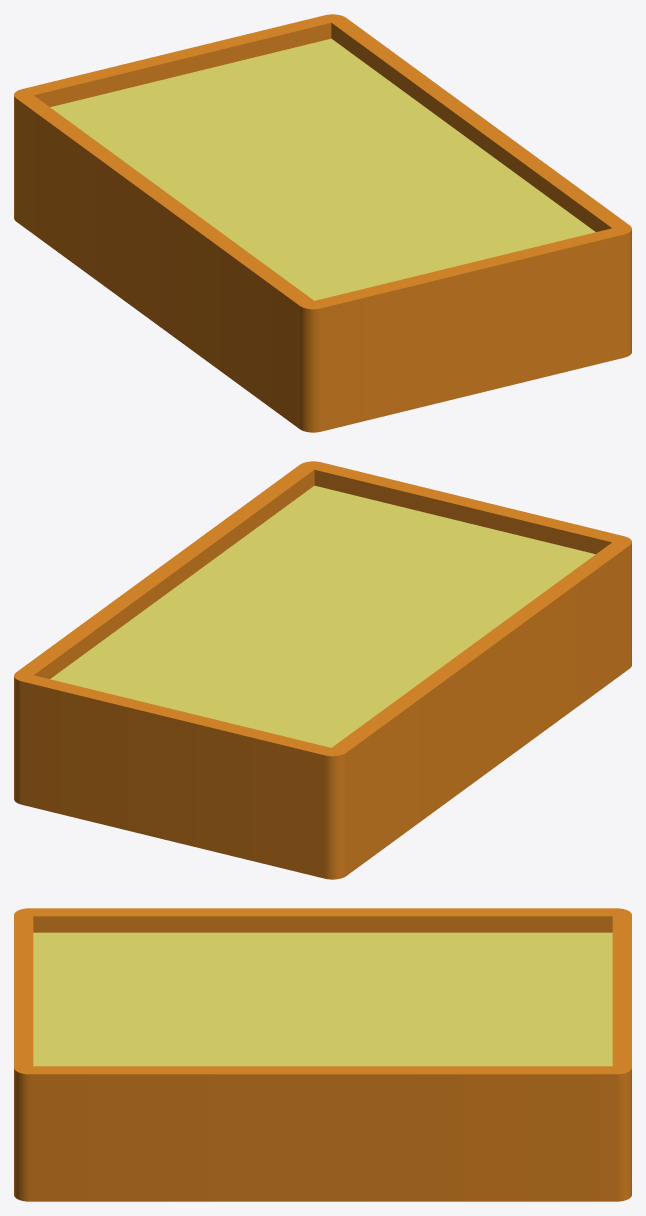
Rendered from huopinhe.glb.
3 views of the same model, one above another, from view 1: azimuth 30°, elevation 25°; view 2: azimuth 150°, elevation 25°; view 3: azimuth 270°, elevation 25° (orthographic). The views are drawn at different scales.
Parts seen in each view (by area): view 1: huopinhe; view 2: huopinhe; view 3: huopinhe.
Boxes of the visible parts, bbox=[...] form: huopinhe: bbox=[14, 14, 631, 432]; huopinhe: bbox=[14, 461, 631, 879]; huopinhe: bbox=[14, 908, 631, 1201].
Size of the model in its own units: 1.4 by 0.5 by 2.2.
